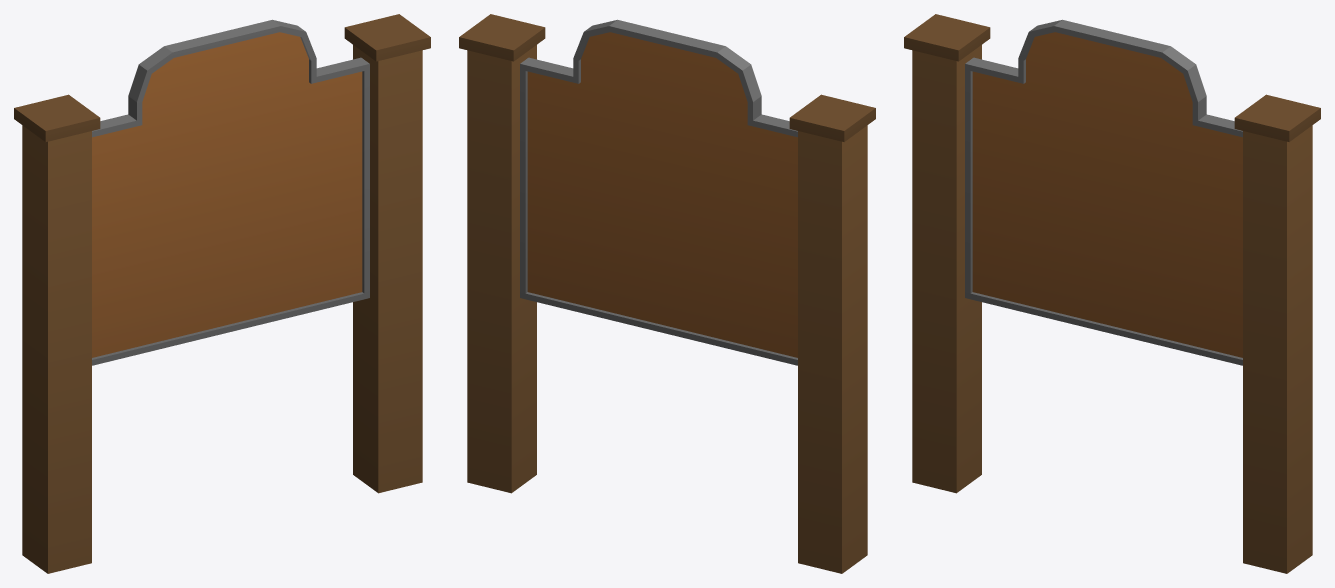
The model's file is Bld_Farm_Sign_01.obj.
3 renders of one model, left to right at view 1: azimuth 30°, elevation 25°; view 2: azimuth 150°, elevation 25°; view 3: azimuth 330°, elevation 25°, orthographic.
Parts seen in each view (by area): view 1: Bld_Farm_Sign_01; view 2: Bld_Farm_Sign_01; view 3: Bld_Farm_Sign_01.
Part boxes in pixels (x1,y1,x2,y2): Bld_Farm_Sign_01: (14,14,430,573); Bld_Farm_Sign_01: (459,14,875,573); Bld_Farm_Sign_01: (904,14,1320,573).
Size of the model in its own units: 1.27 by 1.52 by 0.1804.
Materials: 1 (1 with a texture image).
